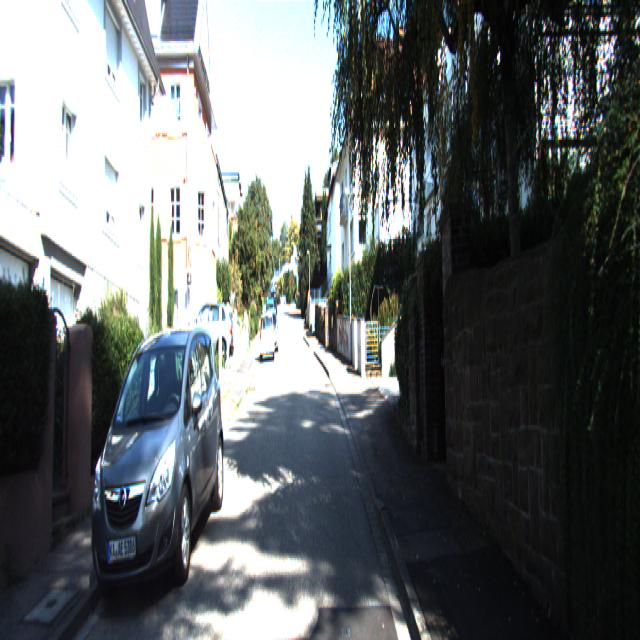Car: (83, 328, 227, 612), (259, 310, 276, 362)
